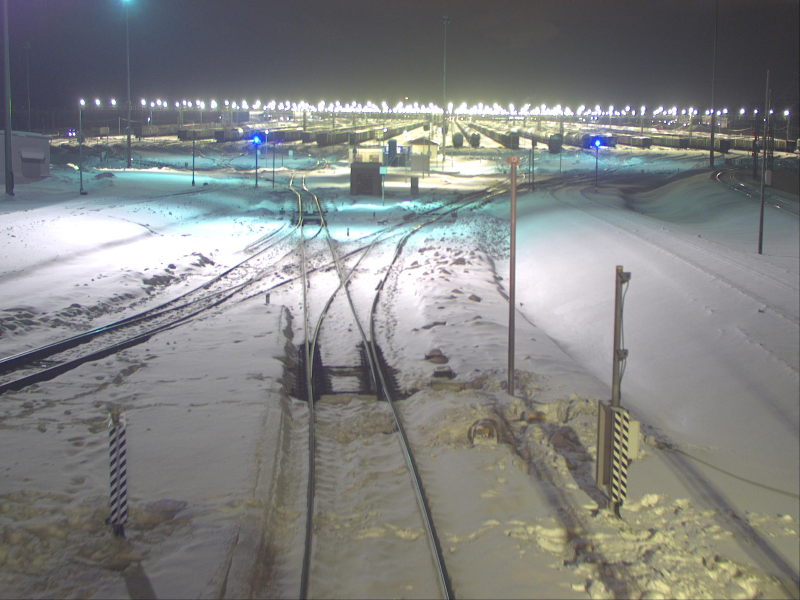railway_arrows: (303, 272, 390, 400)
